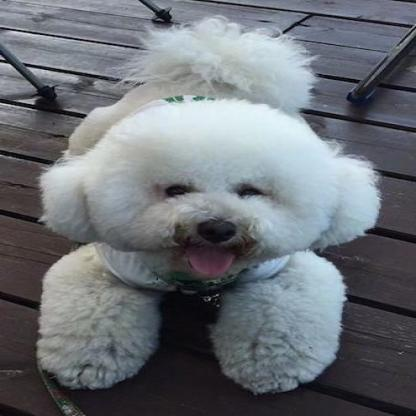Bichon Frise: (28, 21, 381, 388)
